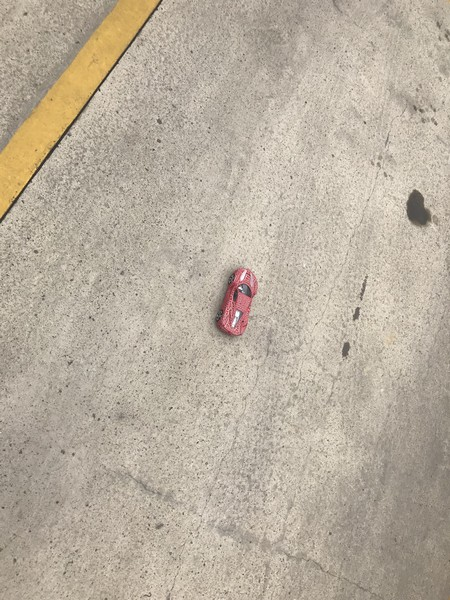RC: (216, 268, 261, 337)
